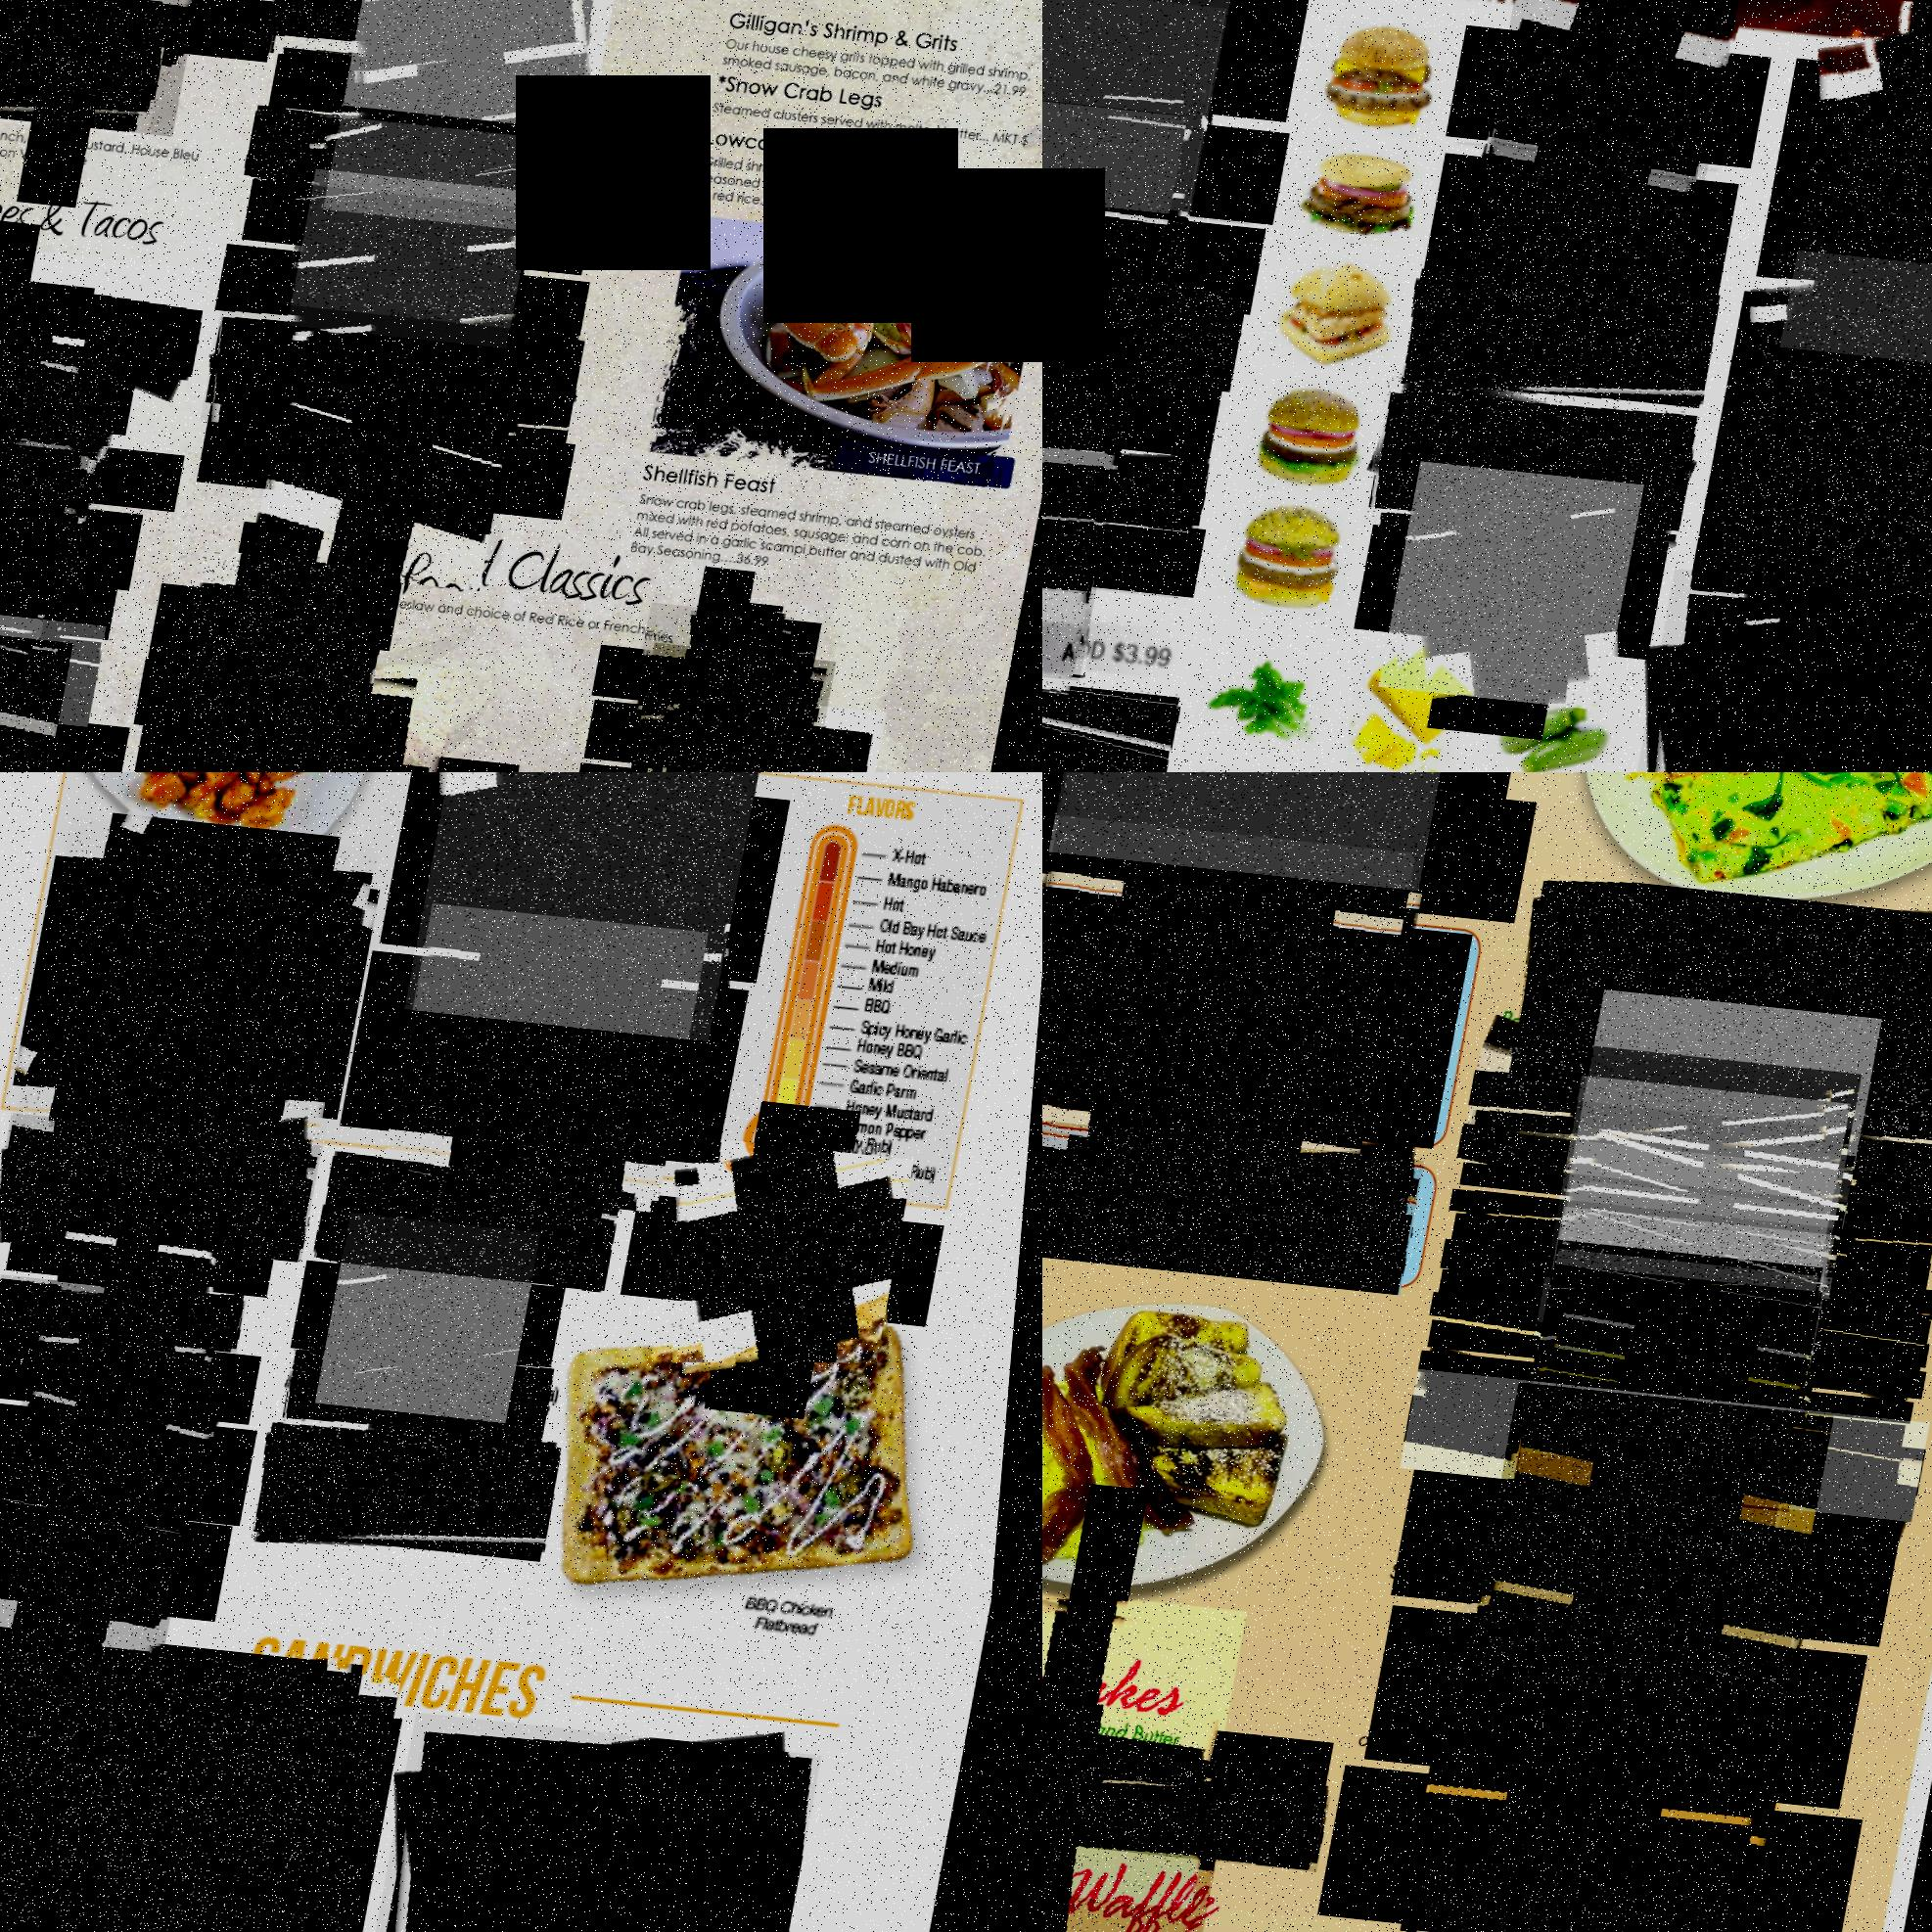Menu-Items: (1042, 814, 1422, 1215), (1437, 1520, 1835, 1893), (1477, 1382, 1851, 1732), (0, 1629, 421, 1932), (21, 816, 384, 1157), (1042, 771, 1476, 1042), (1506, 872, 1932, 1145), (1405, 1672, 1819, 1932), (1562, 989, 1891, 1299), (387, 902, 715, 1212), (384, 1713, 844, 1932), (1527, 1207, 1854, 1511), (1548, 1046, 1872, 1350), (1543, 1127, 1867, 1431), (409, 771, 770, 1042), (1532, 1178, 1852, 1481), (1709, 246, 1932, 679), (1543, 1074, 1861, 1375), (1520, 1263, 1836, 1560), (1523, 1240, 1836, 1534), (1412, 1368, 1932, 1522), (1042, 1580, 1267, 1909), (1042, 1109, 1438, 1295), (269, 334, 543, 591), (283, 168, 556, 425), (1442, 1237, 1932, 1378), (336, 0, 630, 235), (1391, 462, 1656, 711), (1470, 1042, 1932, 1185), (662, 1136, 925, 1384), (303, 103, 564, 349), (1621, 568, 1932, 771), (218, 297, 607, 458), (1042, 0, 1231, 331), (1369, 375, 1713, 556), (1456, 1189, 1932, 1316), (1463, 111, 1711, 343), (1783, 0, 1932, 384), (1483, 0, 1743, 218), (1403, 264, 1730, 421), (1049, 771, 1479, 890), (0, 1111, 333, 1261), (9, 1355, 239, 1571), (327, 1212, 554, 1422), (1042, 88, 1192, 403), (264, 1417, 580, 1566), (1042, 0, 1253, 216), (0, 1453, 212, 1663), (322, 1152, 635, 1290), (1042, 1737, 1355, 1872), (257, 108, 632, 216), (30, 1279, 237, 1474), (1461, 1127, 1932, 1212), (1042, 232, 1162, 548), (0, 334, 145, 591), (290, 1336, 571, 1458), (0, 232, 230, 380), (200, 609, 407, 771), (216, 648, 485, 771), (58, 1175, 244, 1350), (1042, 242, 1258, 393), (196, 548, 379, 722), (0, 0, 226, 136), (1042, 380, 1139, 695), (1042, 1785, 1247, 1932), (271, 0, 610, 85), (646, 642, 860, 771), (0, 416, 115, 655), (1396, 1856, 1757, 1932), (648, 602, 817, 761), (0, 265, 113, 494), (0, 18, 179, 136), (1042, 416, 1223, 533), (2, 1274, 260, 1353), (1042, 640, 1198, 771), (663, 690, 913, 771), (0, 483, 87, 711), (0, 591, 131, 725), (0, 619, 97, 771), (182, 722, 433, 771)
